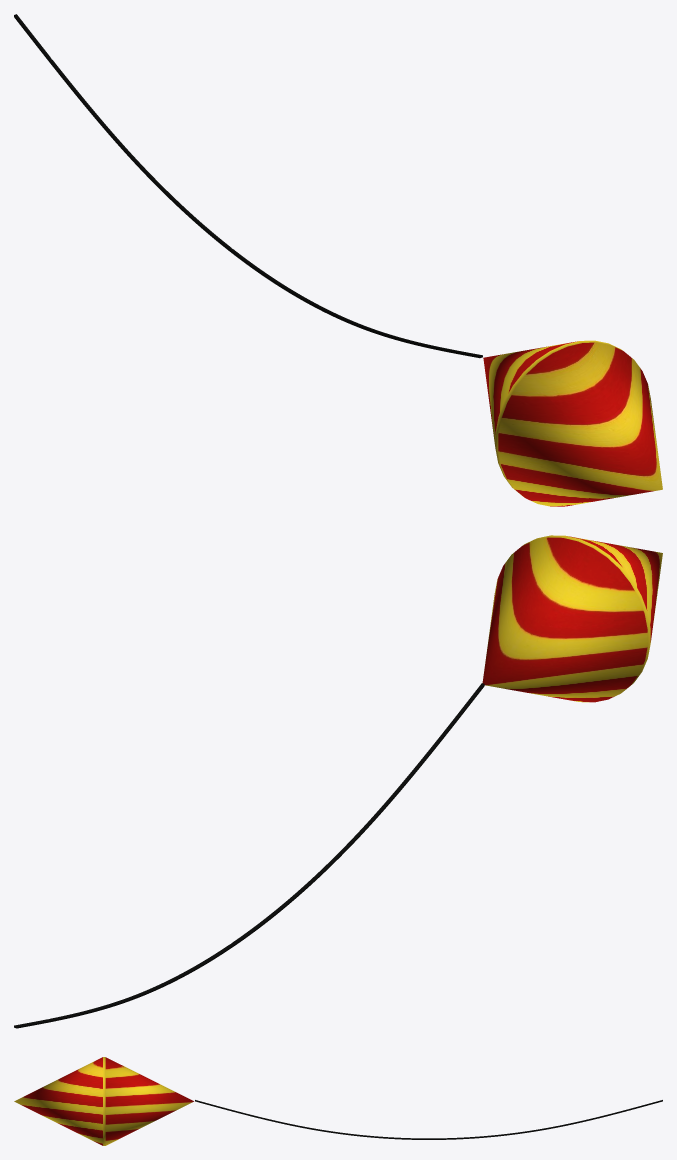
File: bova.fbx
3 renders of one model, top to bottom at view 1: azimuth 30°, elevation 25°; view 2: azimuth 150°, elevation 25°; view 3: azimuth 270°, elevation 25°, orthographic. The views are drawn at different scales.
Parts seen in each view (by area): view 1: Cone.001; view 2: Cone.001; view 3: Cone.001.
Boxes of the visible parts, x1=… form: Cone.001: x1=14, y1=14, x2=662, y2=506; Cone.001: x1=14, y1=535, x2=662, y2=1028; Cone.001: x1=14, y1=1057, x2=662, y2=1145.
Bounding box in the file's own units: 199 × 199 × 1460.
2 materials, 1 textured.
